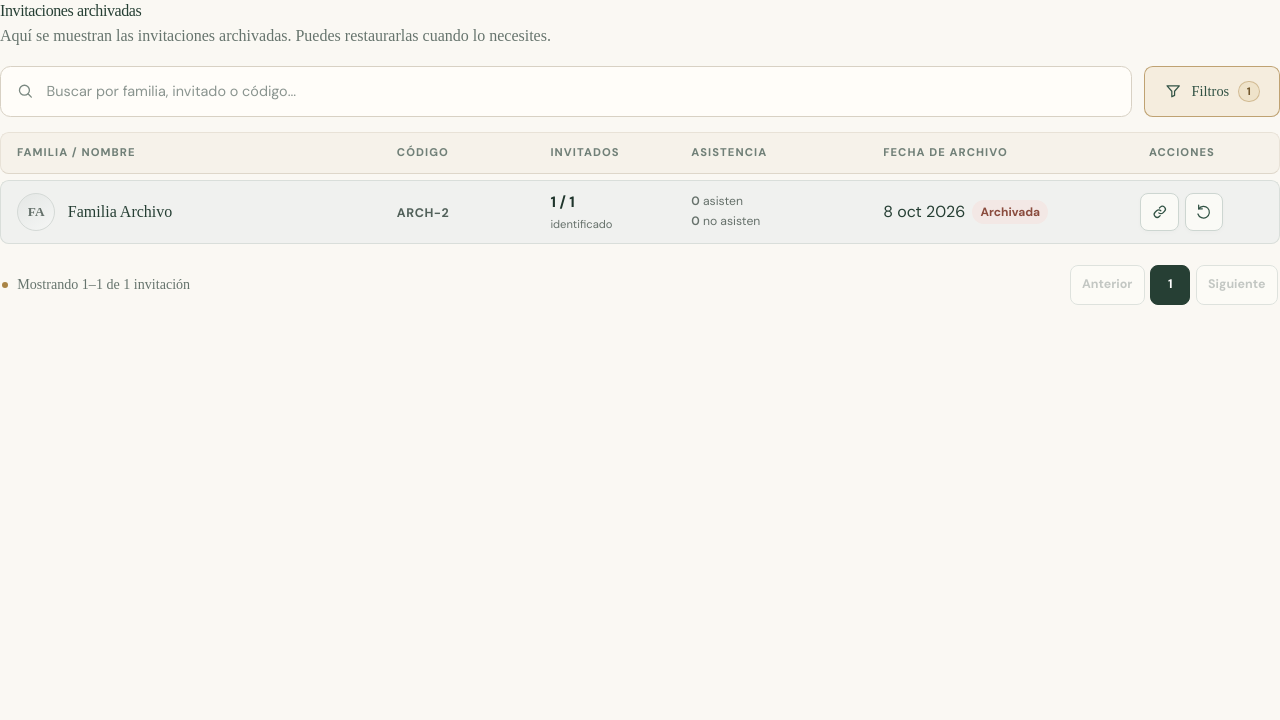
Test: listado de invitaciones › restaura desde Archivadas y elimina el registro de esa lista
This screenshot has width=1280, height=720.
What coordinates should you click on to do the following:
click the button named "Restaurar invitación: Familia Archivo"
I would click on:
 (1204, 212)
Its box is [1185,193,1224,231].
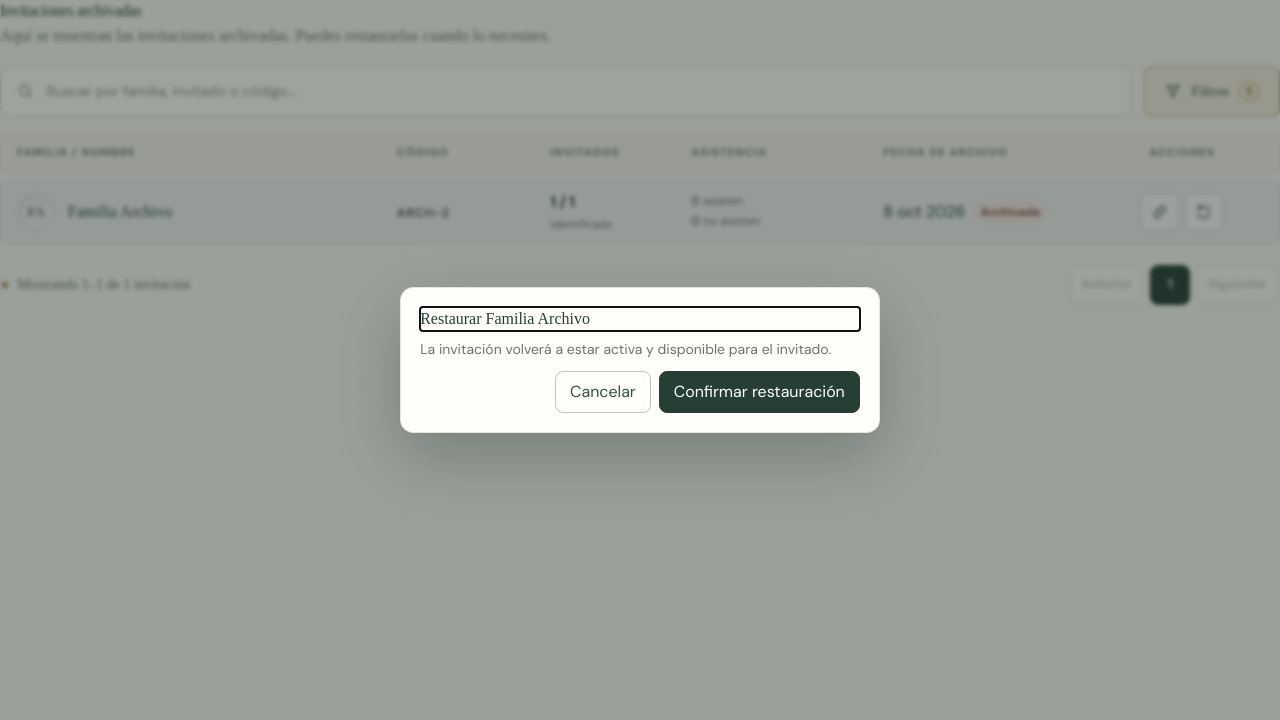
What coordinates should you click on to do the following:
click the button "Confirmar restauración"
I would click on:
 (759, 392)
Its box is [659,371,860,413].
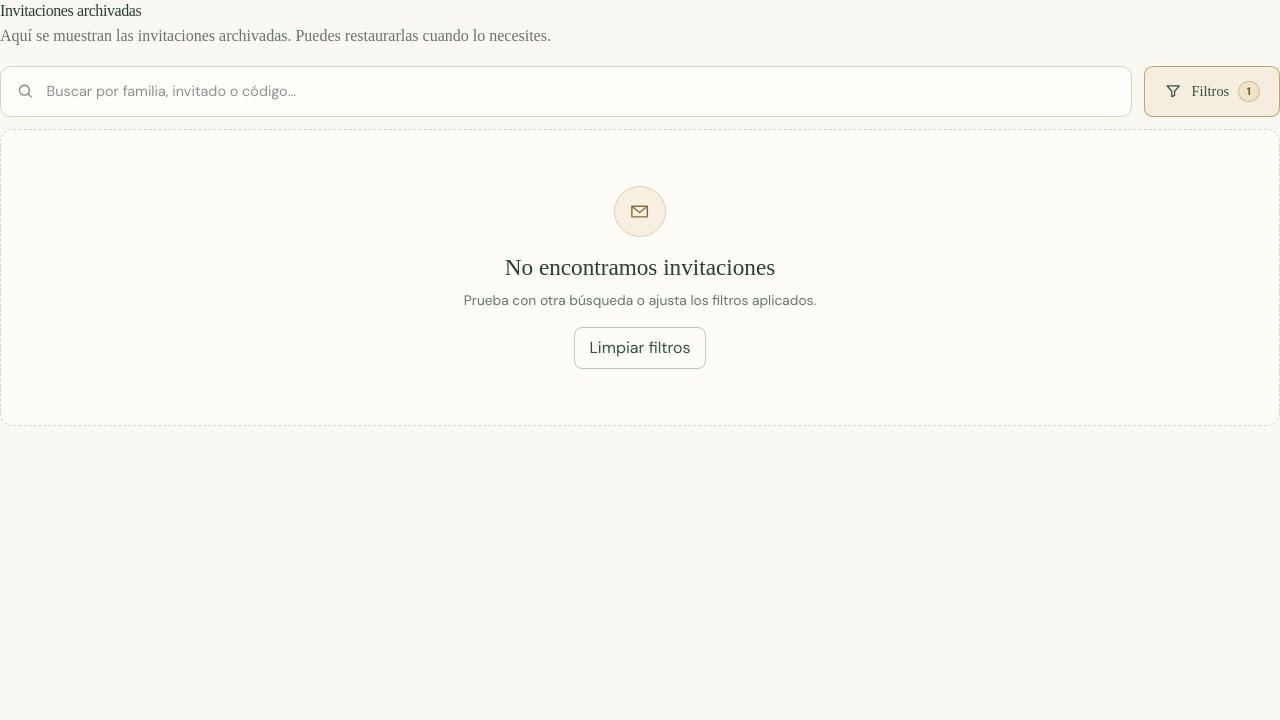
Expected: the table is gone
